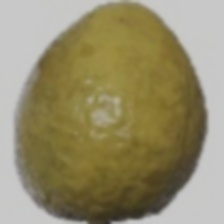guava: (53, 0, 195, 186)
